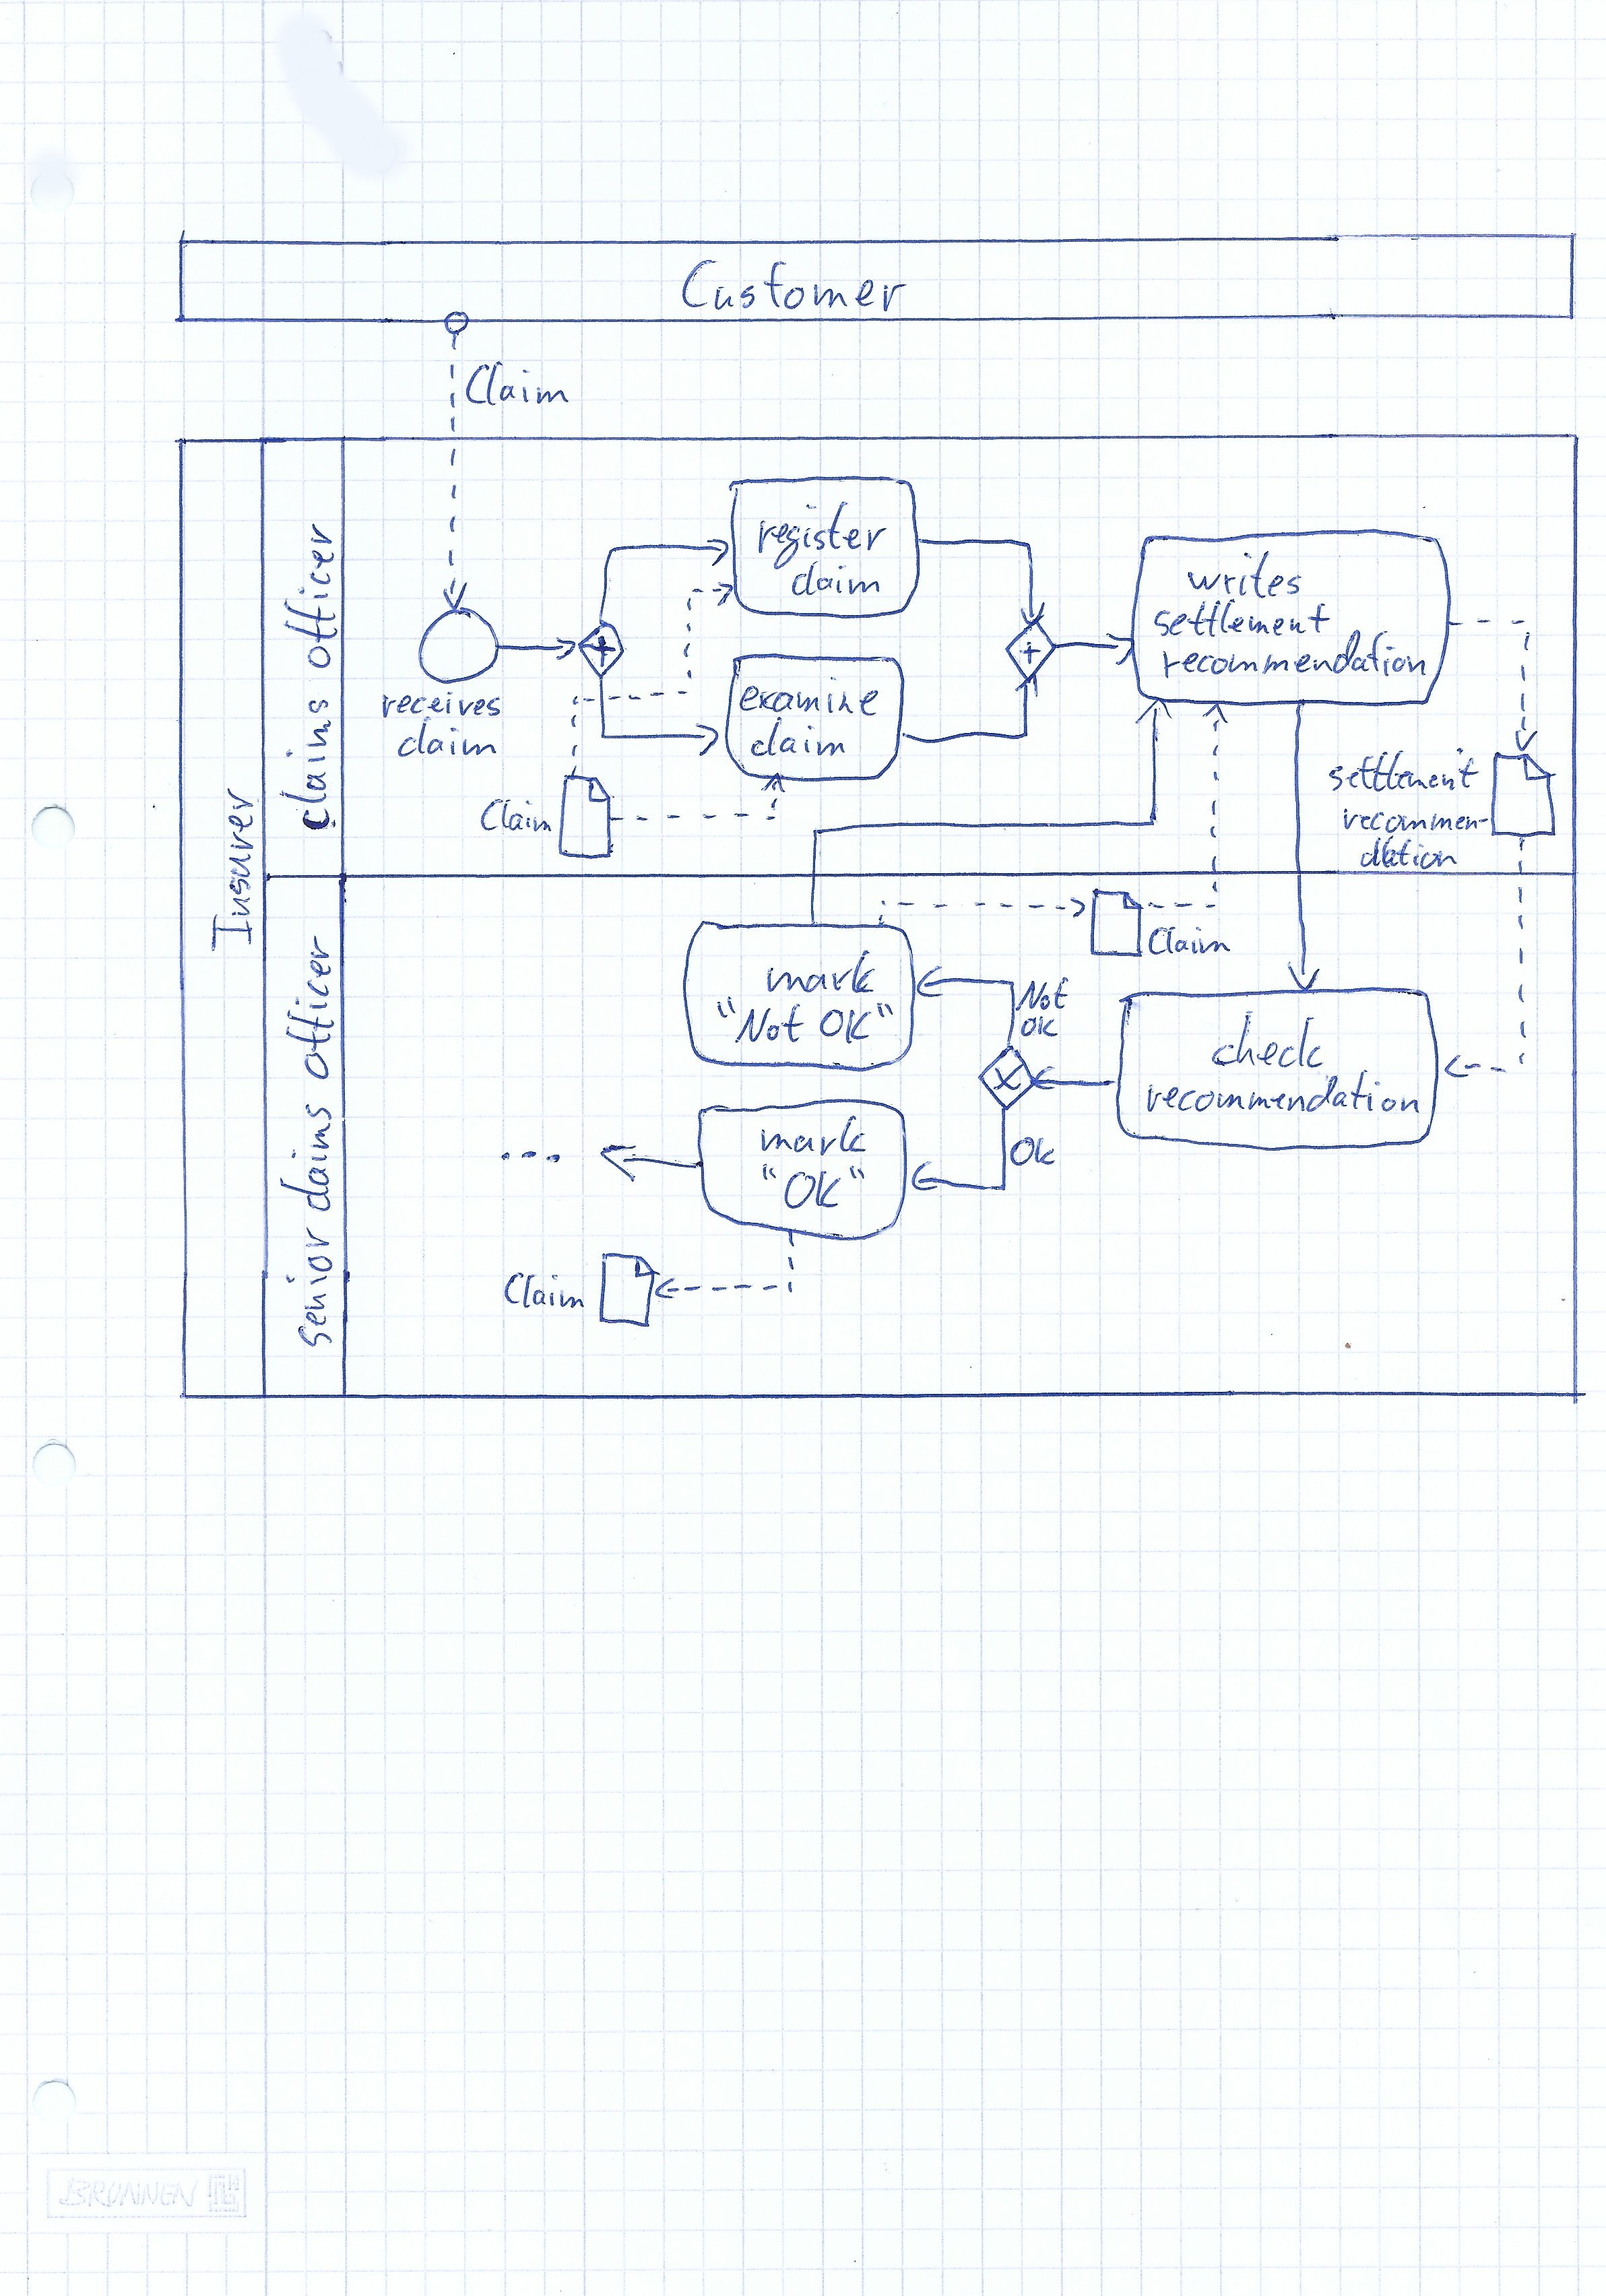Claim: (459, 356, 575, 412), (499, 1267, 589, 1315), (474, 792, 556, 841), (1142, 921, 1236, 960)
Customer: (673, 251, 914, 319)
Insurer: (202, 782, 260, 956)
Not: (711, 991, 809, 1049), (1010, 974, 1074, 1015)
OK: (757, 1158, 872, 1214), (813, 998, 898, 1050), (1017, 1012, 1064, 1042)
Ok: (1006, 1131, 1060, 1171)
check: (1203, 1005, 1330, 1075)
claim: (391, 710, 504, 762), (745, 710, 853, 762), (786, 555, 886, 602)
claims: (272, 693, 338, 837), (272, 1096, 338, 1220)
dation: (1355, 830, 1463, 872)
examine: (732, 670, 886, 722)
mark: (762, 944, 882, 998), (753, 1110, 874, 1162)
officer: (276, 516, 342, 675), (279, 930, 340, 1087)
receives: (375, 686, 507, 724)
recommen-: (1337, 801, 1494, 839)
recommendation: (1140, 1064, 1426, 1122), (1156, 625, 1432, 684)
register: (750, 494, 895, 576)
senior: (279, 1220, 338, 1356)
settlement: (1147, 591, 1336, 642), (1322, 745, 1486, 797)
writes: (1182, 546, 1308, 605)
